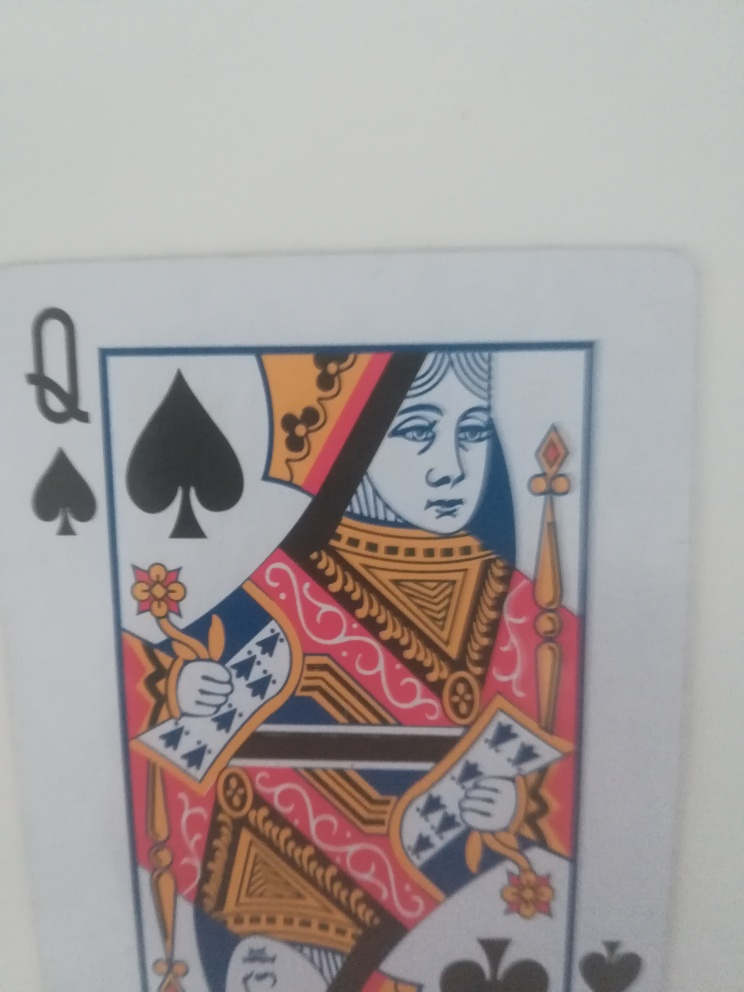QS: (13, 303, 104, 539)
